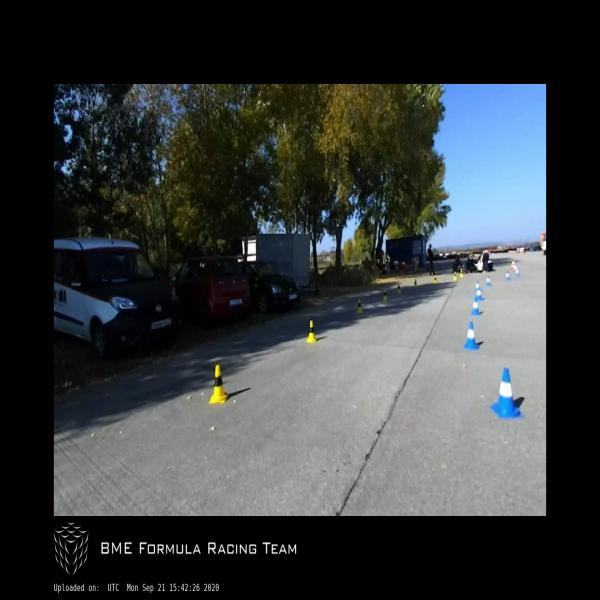blue_cone: (490, 366, 524, 420), (463, 322, 479, 349), (470, 298, 482, 316), (475, 287, 482, 301), (486, 275, 492, 287), (476, 280, 482, 291), (505, 271, 510, 281), (515, 266, 519, 276)
yellow_cone: (209, 364, 228, 404), (306, 320, 317, 342), (355, 299, 363, 313), (382, 289, 388, 301), (432, 274, 437, 285), (413, 278, 418, 288), (397, 283, 401, 294), (453, 272, 457, 280), (460, 271, 463, 276)
